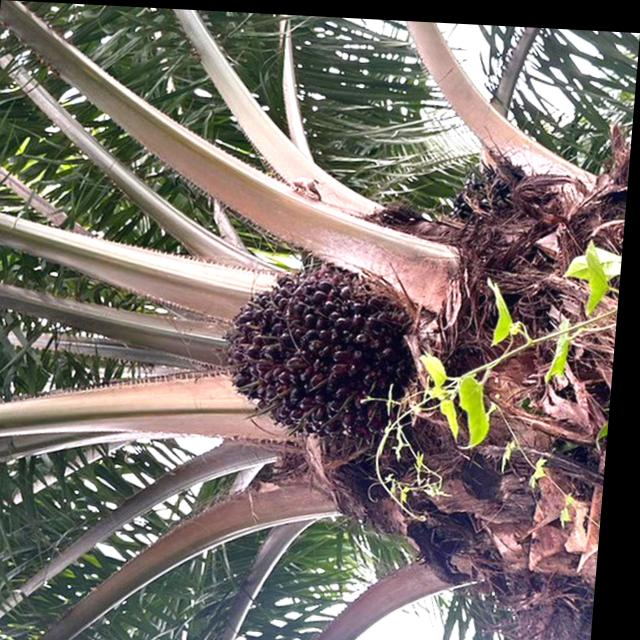ripe: (202, 232, 431, 453)
